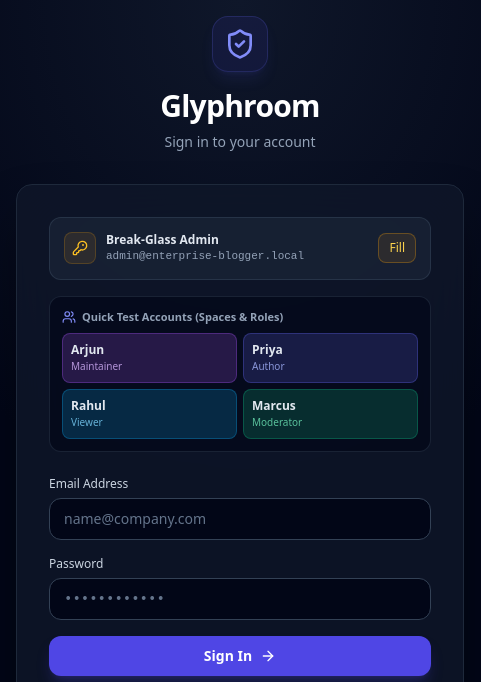
Scenario: Milestone M1 Adversarial Web Shell & Auth Suite › SignInView Break-Glass UI & Error Resilience › differentiates 400 Bad Request validation errors from 401 Invalid Credentials
Click the button "Fill" at (397, 248), box [378,233,416,263]
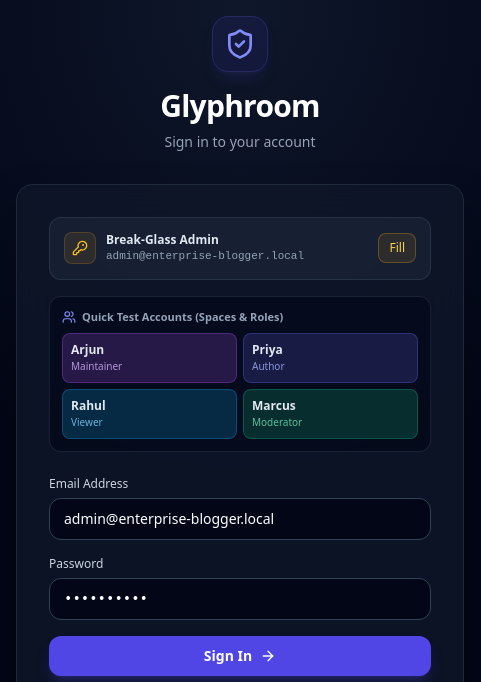
Click the button "Sign In" at (240, 656), box [49,636,431,676]
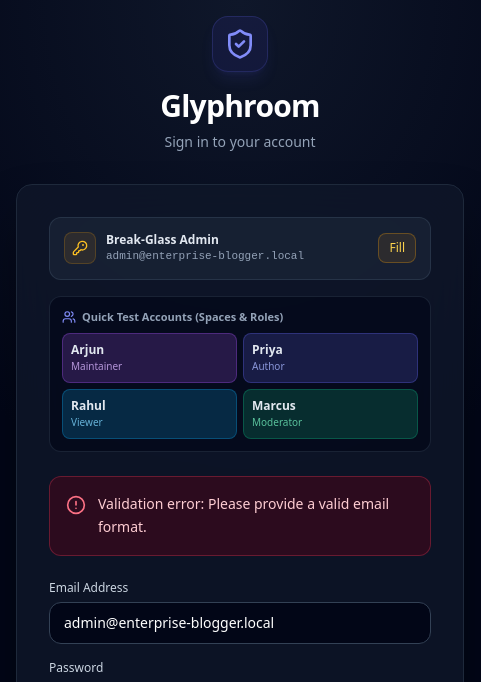
Now the message shows "Validation error: Please provide a valid email format", box [98,494,389,536]
